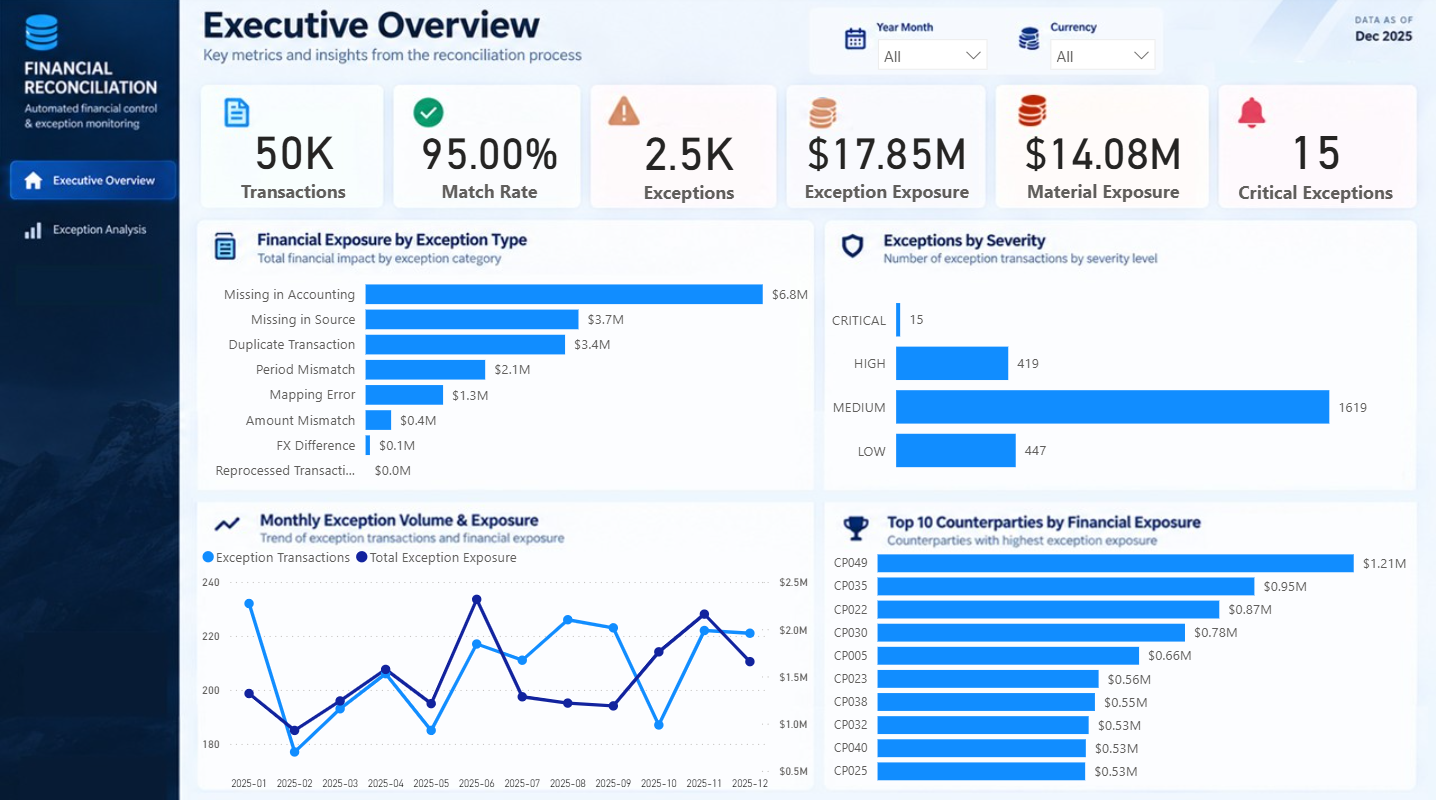

What the dashboard file says about the page in this screenshot:
{"tool":"powerbi","page":{"name":"Executive Overview","canvas":[1280,720],"ordinal":0},"visuals":[{"type":"cardVisual","fields":{"Data":["_Measures.Match Rate"]},"box":[347.4,106.2,177.3,92.8],"z":1000},{"type":"cardVisual","fields":{"Data":["_Measures.Exception Transactions"]},"box":[525,105,176.2,93.8],"z":2000},{"type":"cardVisual","fields":{"Data":["_Measures.Material Exposure"]},"box":[883.5,106.2,197.9,92.8],"z":3000},{"type":"cardVisual","fields":{"Data":["_Measures.Critical Exceptions"]},"box":[1083.5,104.5,177.4,92.9],"z":4000},{"type":"barChart","title":"Financial Exposure by Exception Type","fields":{"Category":["Reconciliation.Exception Type"],"Y":["_Measures.Total Exception Exposure"]},"box":[174.7,236,550.7,210.7],"z":6000},{"type":"barChart","title":"Exceptions by Severity","fields":{"Category":["Severity.Severity"],"Y":["_Measures.Exception Transactions"]},"box":[730.3,245.6,549.6,196.5],"z":6001},{"type":"lineChart","title":"Monthly Exception Volume & Exposure","fields":{"Category":["Calendar.Year Month"],"Y":["_Measures.Exception Transactions"],"Y2":["_Measures.Total Exception Exposure"]},"box":[175.2,481,550.5,235.2],"z":6002},{"type":"barChart","title":"Top 10 Counterparties by Financial Exposure","fields":{"Category":["Reconciliation.Counterparty"],"Y":["_Measures.Total Exception Exposure"]},"box":[735.2,485.2,544.3,219.5],"z":6003},{"type":"slicer","fields":{"Values":["Calendar.Year Month"]},"box":[771,29,118,46.8],"z":6004},{"type":"slicer","fields":{"Values":["Reconciliation.Currency"]},"box":[925.4,29,114,46.8],"z":6005},{"type":"cardVisual","fields":{"Data":["_Measures.Total Exception Exposure"]},"box":[685.2,106.2,208.6,93.8],"z":6006},{"type":"cardVisual","fields":{"Data":["_Measures.Total Transactions"]},"box":[172.5,105,177.5,92.5],"z":6007},{"type":"actionButton","box":[8.8,191.2,133.8,40],"z":6008}]}

Visuals, with their boxes on the page's 1280x720 design canvas (x1, y1, x2, y2). These are canvas units, not pixel positions in the 1436x800 screenshot, which may show the page scaled, cropped or inside an application window:
cardVisual - _Measures.Match Rate: l=347, t=106, r=525, b=199
cardVisual - _Measures.Exception Transactions: l=525, t=105, r=701, b=199
cardVisual - _Measures.Material Exposure: l=884, t=106, r=1081, b=199
cardVisual - _Measures.Critical Exceptions: l=1084, t=104, r=1261, b=197
"Financial Exposure by Exception Type" barChart: l=175, t=236, r=725, b=447
"Exceptions by Severity" barChart: l=730, t=246, r=1280, b=442
"Monthly Exception Volume & Exposure" lineChart: l=175, t=481, r=726, b=716
"Top 10 Counterparties by Financial Exposure" barChart: l=735, t=485, r=1280, b=705
slicer - Calendar.Year Month: l=771, t=29, r=889, b=76
slicer - Reconciliation.Currency: l=925, t=29, r=1039, b=76
cardVisual - _Measures.Total Exception Exposure: l=685, t=106, r=894, b=200
cardVisual - _Measures.Total Transactions: l=172, t=105, r=350, b=198
actionButton: l=9, t=191, r=143, b=231
